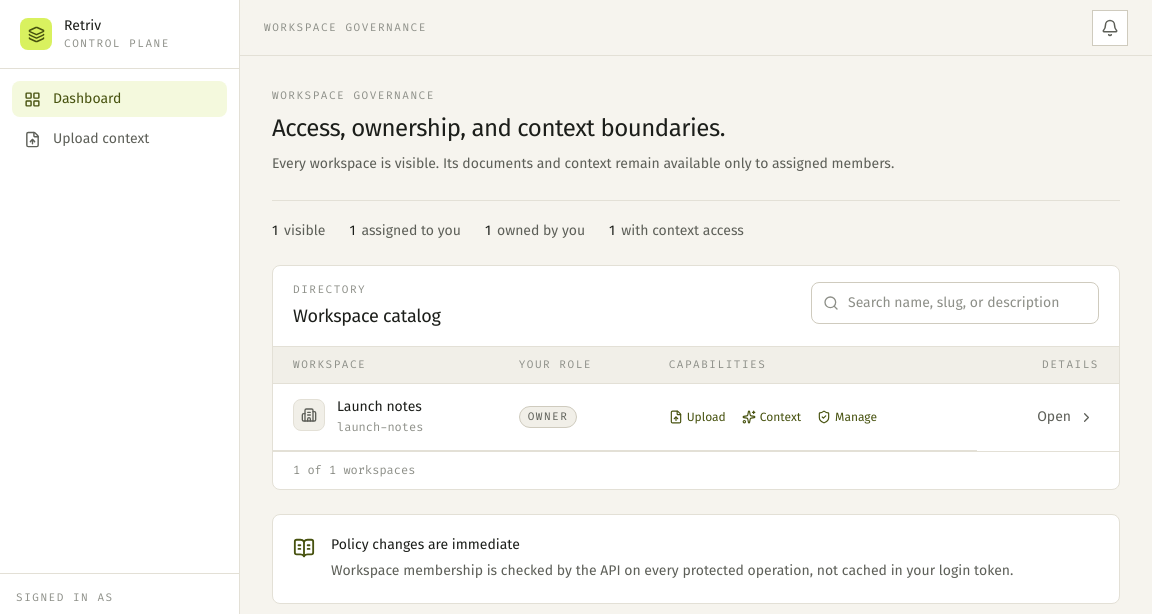
Test: dashboard application › shows how many rows a CSV holds, and says plainly how a CSV is used
The image size is (1152, 614).
Click the button "Open". click: click(1066, 417)
box: x1=1032 y1=396 x2=1099 y2=438
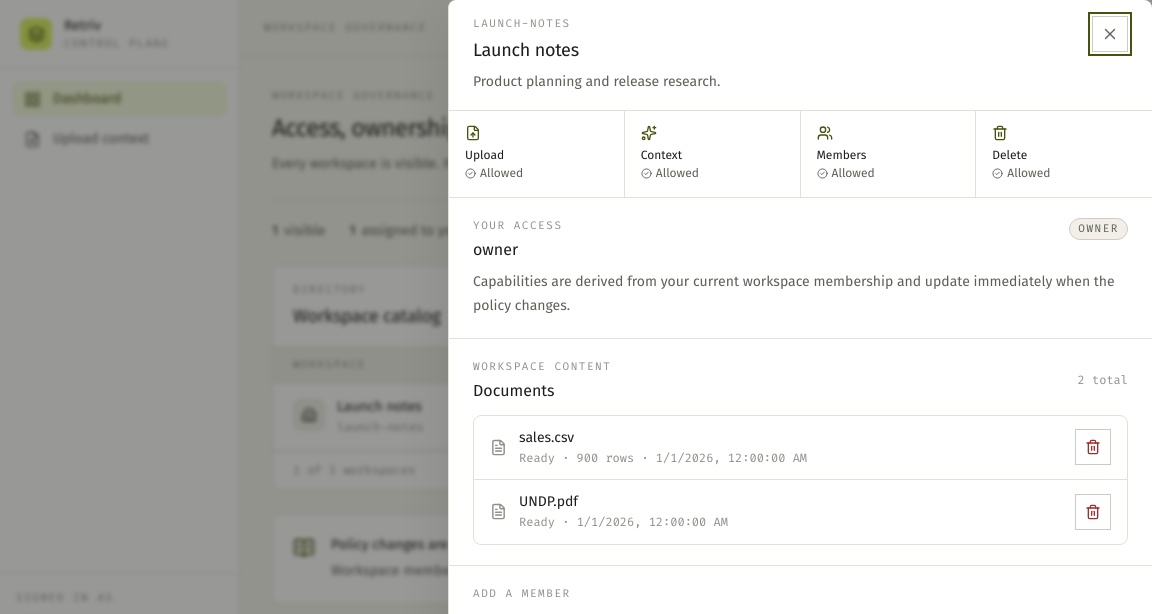
expect the text "sales.csv" is shown: met, box x1=519 y1=429 x2=574 y2=446
expect the text "UNDP.pdf" is shown: met, box x1=519 y1=493 x2=578 y2=510
expect the text "Ready · 900 rows · 1/1/2026, 12:00:00 AM" is shown once: met, box x1=519 y1=450 x2=807 y2=467
